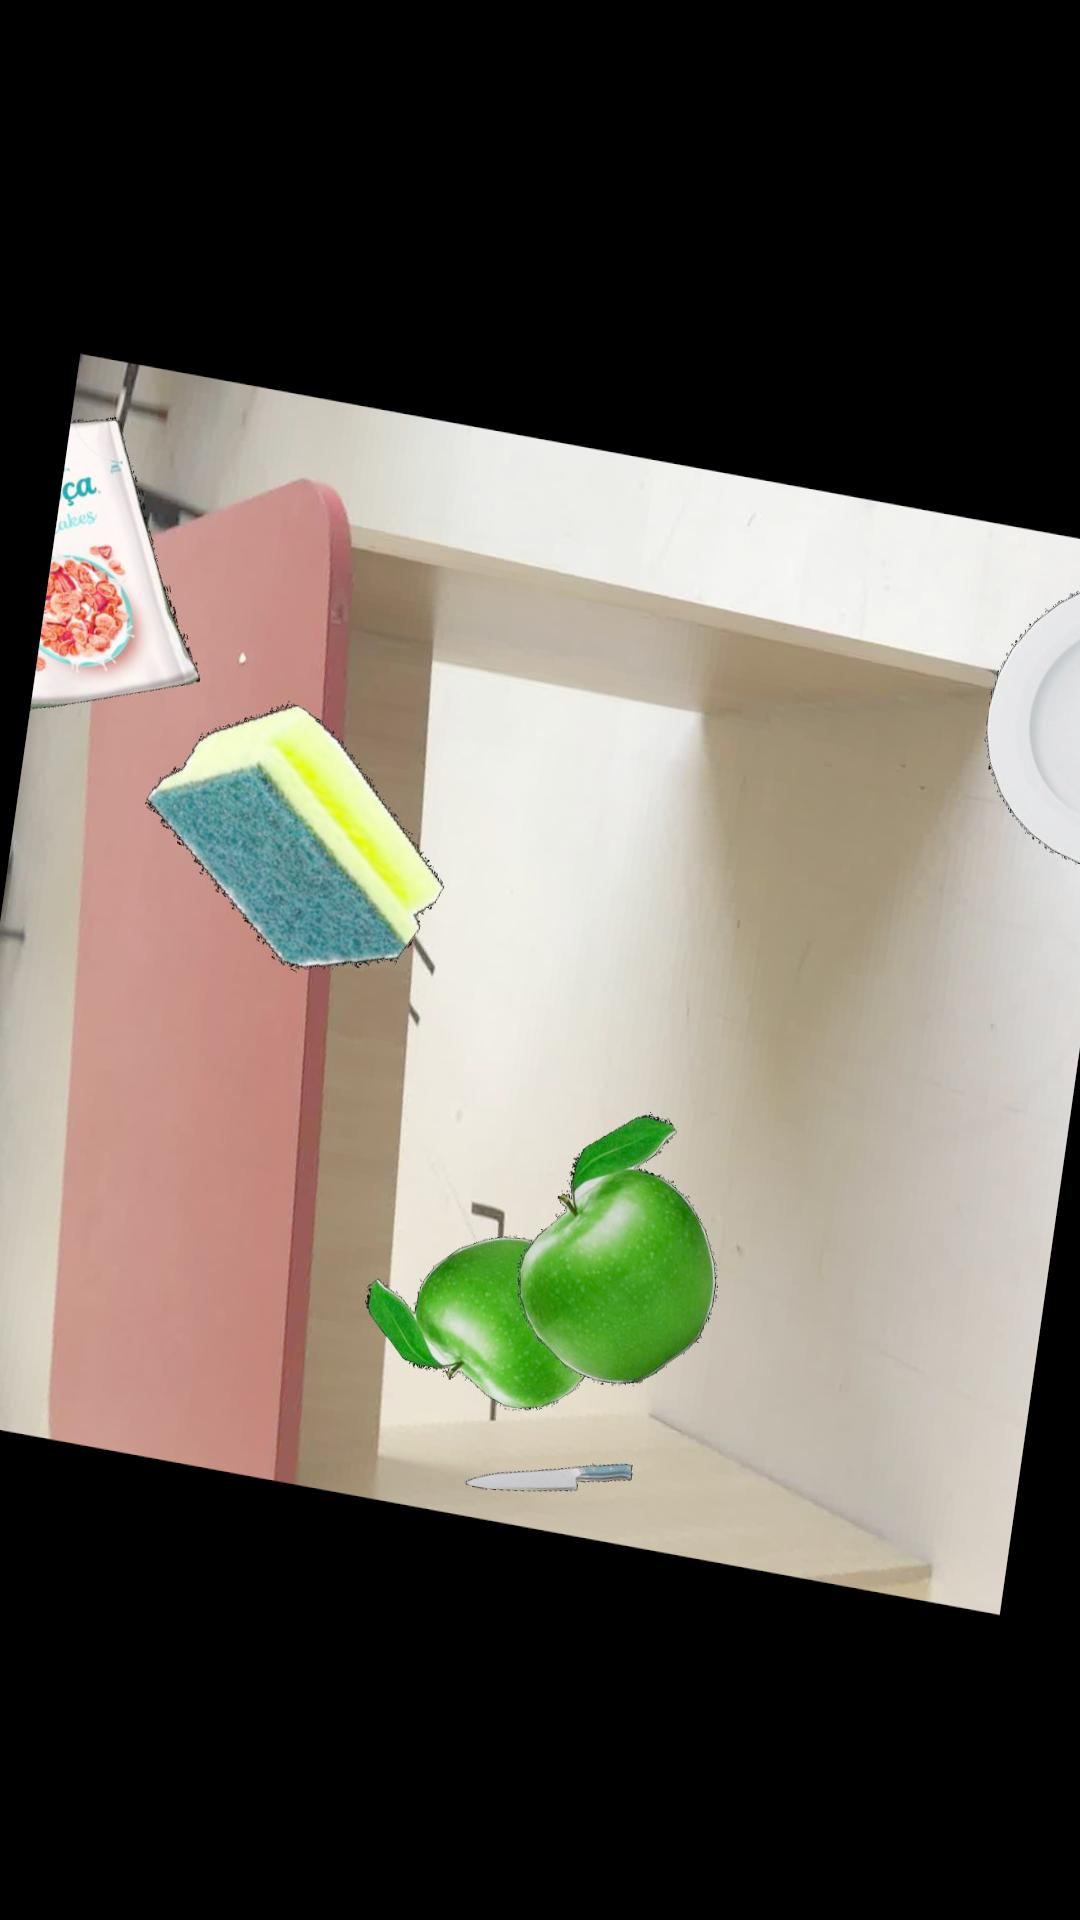corn flakes: (30, 417, 198, 708)
green apple: (514, 1109, 715, 1379), (363, 1232, 583, 1406)
knife: (463, 1458, 630, 1486)
plate: (984, 582, 1080, 856)
sponge: (142, 702, 442, 967)
